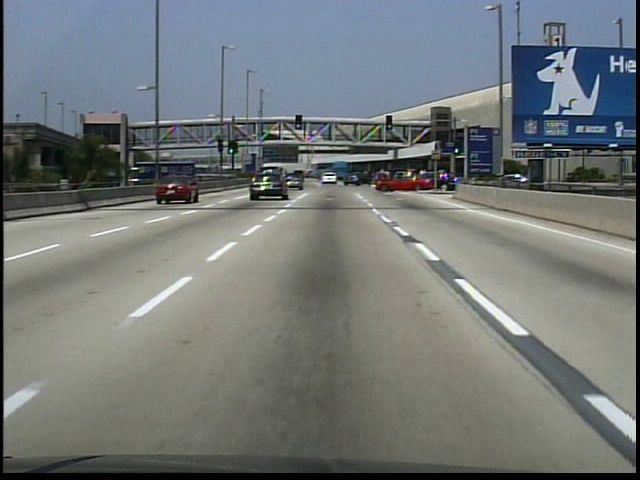person: (229, 132, 235, 145)
